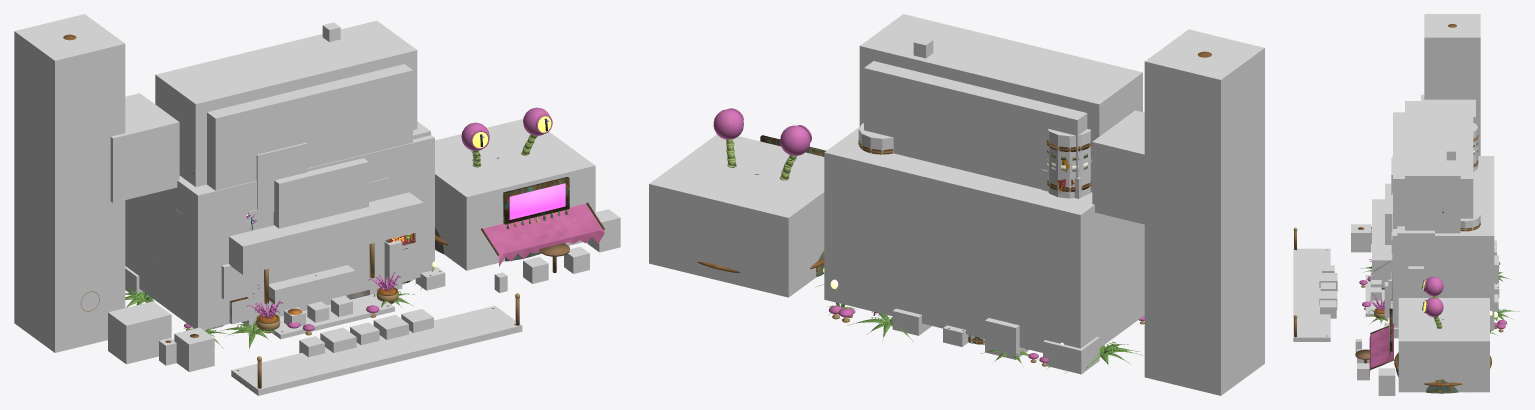
Rendered from spore_pharmacy.glb.
The picture shows the model from 3 angles, left to right: view 1: azimuth 30°, elevation 25°; view 2: azimuth 150°, elevation 25°; view 3: azimuth 270°, elevation 25°; orthographic projection. The views are drawn at different scales.
Visible parts, largest first — view 1: col_bld_spore_pharmacy_X_boiler_0, col_bld_spore_pharmacy_pipes, col_bld_spore_pharmacy_roof_shrooms, col_bld_spore_pharmacy_stacks, col_bld_spore_pharmacy_Xdome_0, col_deck_spore_pharmacy_X_porch, col_bld_spore_pharmacy_awnings, spore_pharmacy_body_b, col_bld_spore_pharmacy_X_pipes, col_bld_spore_pharmacy_mainsign, col_bld_CRATE_stack_i.005, spore_pharmacy_plain (+13 smaller); view 2: col_bld_spore_pharmacy_pipes, col_bld_spore_pharmacy_X_boiler_0, col_bld_spore_pharmacy_Xdome_0, col_bld_spore_pharmacy_roof_shrooms, col_bld_spore_pharmacy_stacks, col_bld_spore_pharmacy_X_pipes, spore_pharmacy_body_b, col_bld_spore_pharmacy_T_L_high, col_bld_PROP_crate_l_i.002, spore_pharmacy_body_a, col_bld_PROP_barrel_i.003, col_bld_PROP_crate_m_i.005 (+2 smaller); view 3: col_bld_spore_pharmacy_Xdome_0, col_bld_spore_pharmacy_pipes, col_bld_spore_pharmacy_stacks, col_bld_spore_pharmacy_X_boiler_0, spore_pharmacy_body_b, col_deck_spore_pharmacy_X_porch, col_bld_spore_pharmacy_roof_shrooms, col_bld_spore_pharmacy_awnings, col_bld_JAR_v1_i.002, col_bld_PROP_barrel_i.023, col_bld_spore_pharmacy_mainsign, col_bld_spore_pharmacy_X_pipes (+12 smaller).
Part boxes in pixels (x1,y1,x2,y2): col_bld_spore_pharmacy_X_boiler_0: (14,14,125,352); col_bld_spore_pharmacy_pipes: (125,135,434,329); col_bld_spore_pharmacy_roof_shrooms: (207,64,412,190); col_bld_spore_pharmacy_stacks: (155,20,417,186); col_bld_spore_pharmacy_Xdome_0: (435,119,595,270); col_deck_spore_pharmacy_X_porch: (231,305,522,395); col_bld_spore_pharmacy_awnings: (229,192,423,274); spore_pharmacy_body_b: (315,107,604,325); col_bld_spore_pharmacy_X_pipes: (110,93,179,202); col_bld_spore_pharmacy_mainsign: (273,158,368,228); col_bld_CRATE_stack_i.005: (108,301,171,364); spore_pharmacy_plain: (246,116,569,321); col_bld_spore_pharmacy_pipes: (824,127,1144,352); col_bld_spore_pharmacy_X_boiler_0: (1144,29,1264,395); col_bld_spore_pharmacy_Xdome_0: (649,134,824,297); col_bld_spore_pharmacy_roof_shrooms: (864,61,1087,189); col_bld_spore_pharmacy_stacks: (859,14,1142,192); col_bld_spore_pharmacy_X_pipes: (1092,110,1144,224); spore_pharmacy_body_b: (697,108,981,341); col_bld_spore_pharmacy_T_L_high: (1047,129,1090,198); col_bld_PROP_crate_l_i.002: (1043,337,1099,374); spore_pharmacy_body_a: (971,51,1211,373); col_bld_PROP_barrel_i.003: (985,318,1029,359); col_bld_PROP_crate_m_i.005: (892,308,931,335); col_bld_spore_pharmacy_Xdome_0: (1398,298,1489,392); col_bld_spore_pharmacy_pipes: (1392,156,1494,330); col_bld_spore_pharmacy_stacks: (1405,101,1460,233); col_bld_spore_pharmacy_X_boiler_0: (1424,14,1480,155); spore_pharmacy_body_b: (1293,211,1519,393); col_deck_spore_pharmacy_X_porch: (1293,248,1330,341); col_bld_spore_pharmacy_roof_shrooms: (1393,112,1473,228); col_bld_spore_pharmacy_awnings: (1372,199,1391,279); col_bld_JAR_v1_i.002: (1351,224,1371,252); col_bld_PROP_barrel_i.023: (1378,368,1395,395); col_bld_spore_pharmacy_mainsign: (1385,183,1392,253); col_bld_spore_pharmacy_X_pipes: (1421,94,1475,123).
Bounding box in the file's own units: 18.16 × 10.11 × 9.71.
Materials: 46 (14 with a texture image).
